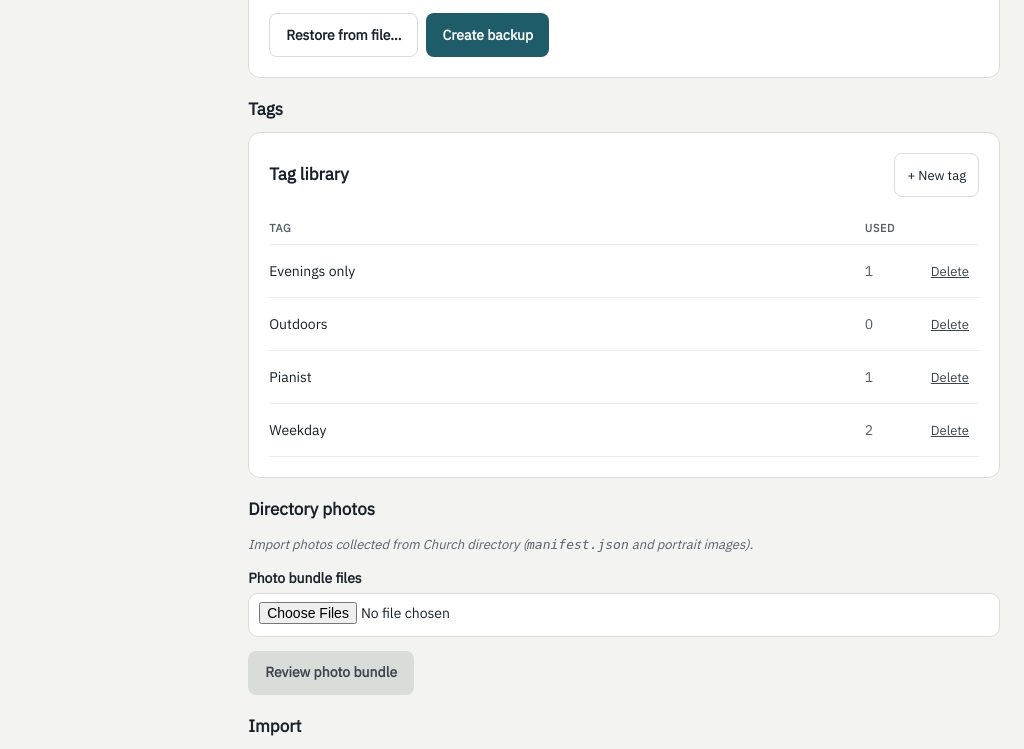
Test case: Settings Tags section › Delete tag sends deleteTag; tagDeleted plus ward push removes the row
(page scrolled)
Step 1. Click the button named "Delete Pianist" → (950, 377), box [921,355,979,399]
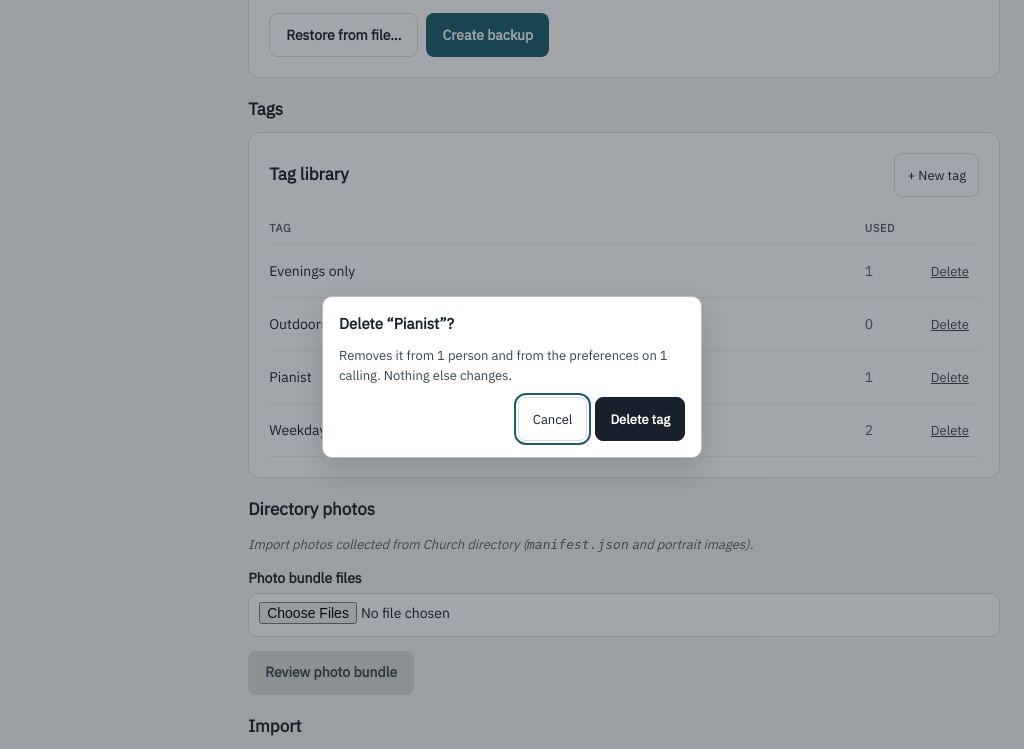
Check: the button "Delete tag" is enabled
Step 2. Click the button "Delete tag" → (640, 419), box [595,397,685,441]
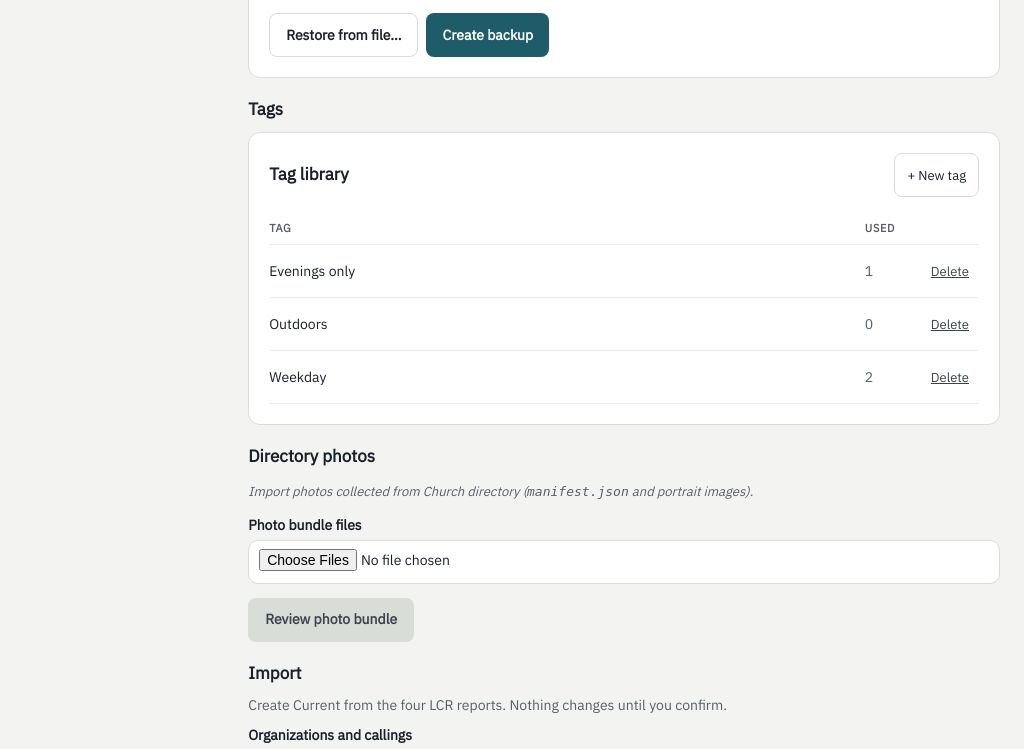
Check: the button named "Delete Weekday" is shown, box [921,355,979,399]
Check: the table "Delete Pianist" is gone
Check: the dialog is gone
